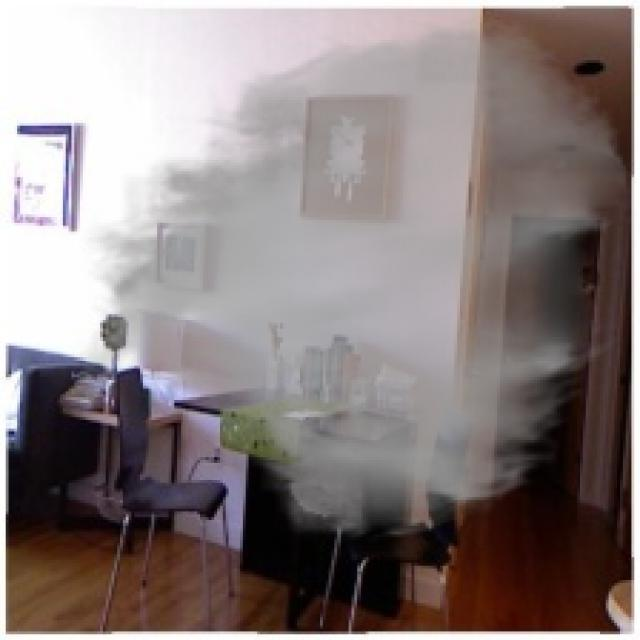Smoke: (71, 14, 632, 543)
